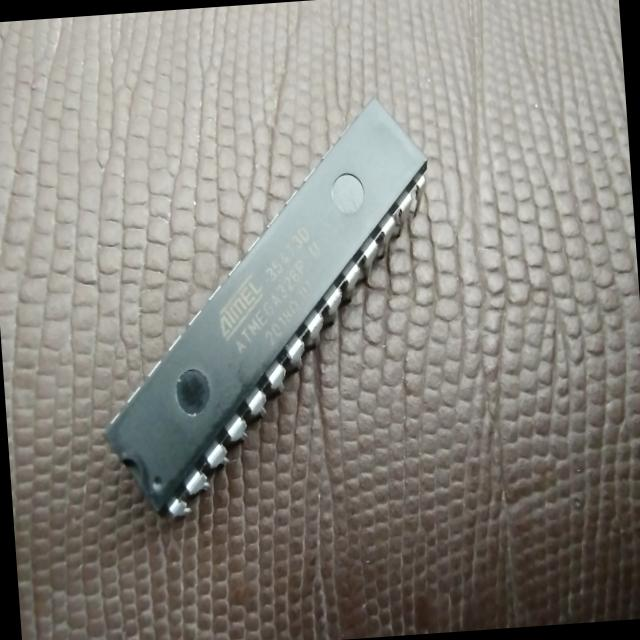atmega: (79, 90, 454, 526)
